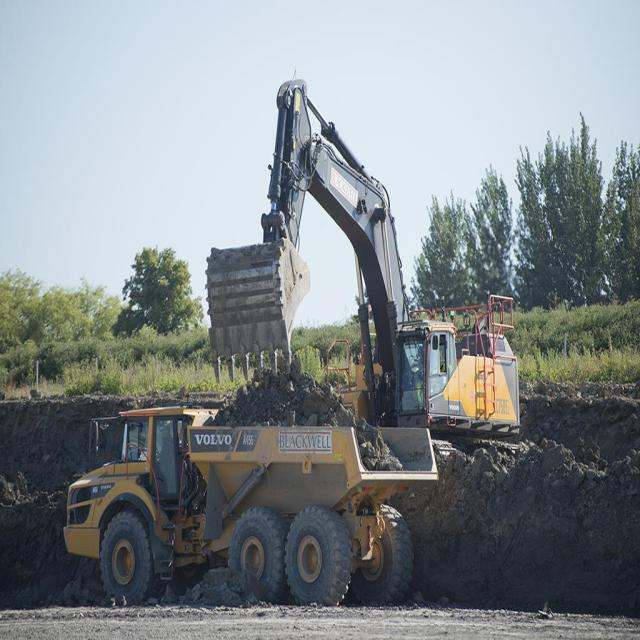dump_truck: (41, 393, 442, 606)
excavator: (199, 54, 544, 438)
